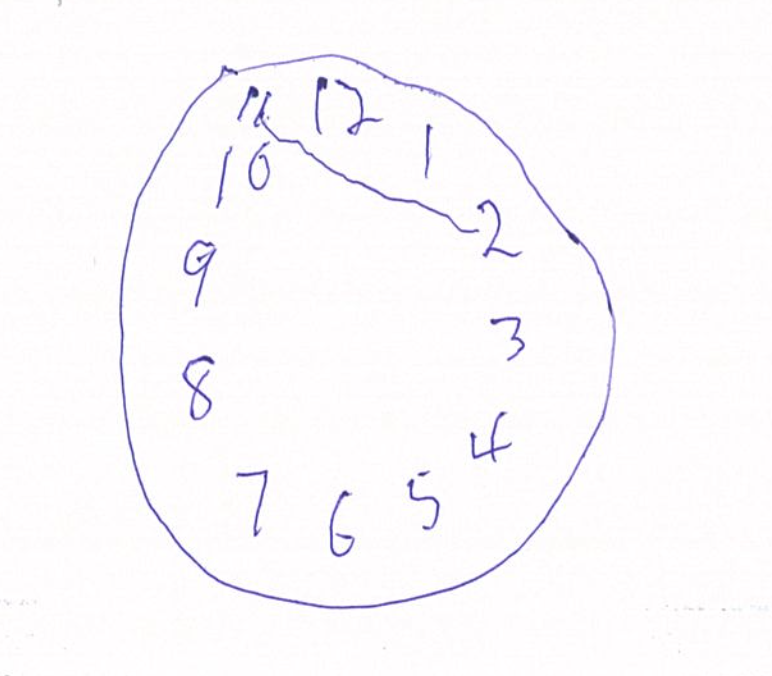1: (420, 123, 435, 182)
10: (214, 142, 273, 215)
11: (234, 86, 273, 130)
12: (309, 75, 386, 141)
2: (473, 194, 525, 262)
3: (491, 311, 528, 366)
4: (468, 411, 513, 467)
5: (401, 470, 445, 533)
6: (327, 485, 359, 562)
7: (233, 465, 272, 538)
8: (181, 351, 216, 423)
9: (177, 234, 216, 308)
contour: (113, 49, 619, 613)
